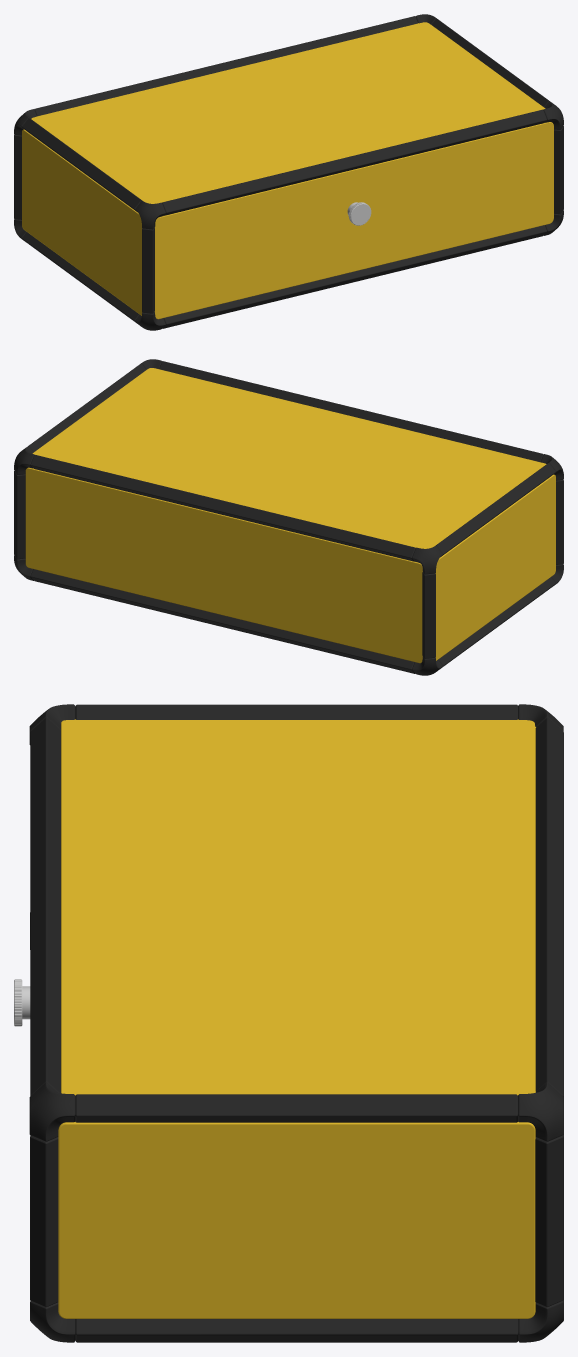
3 renders of one model, top to bottom at view 1: azimuth 30°, elevation 25°; view 2: azimuth 150°, elevation 25°; view 3: azimuth 270°, elevation 25°, orthographic. The views are drawn at different scales.
Visible parts, largest first — view 1: 729x374x154; view 2: 729x374x154; view 3: 729x374x154.
Part boxes in pixels (bbox=[...]): 729x374x154: bbox=[14, 14, 563, 330]; 729x374x154: bbox=[14, 359, 563, 675]; 729x374x154: bbox=[14, 704, 563, 1342].
Size of the model in its own units: 0.8067 by 0.2316 by 0.4646.
